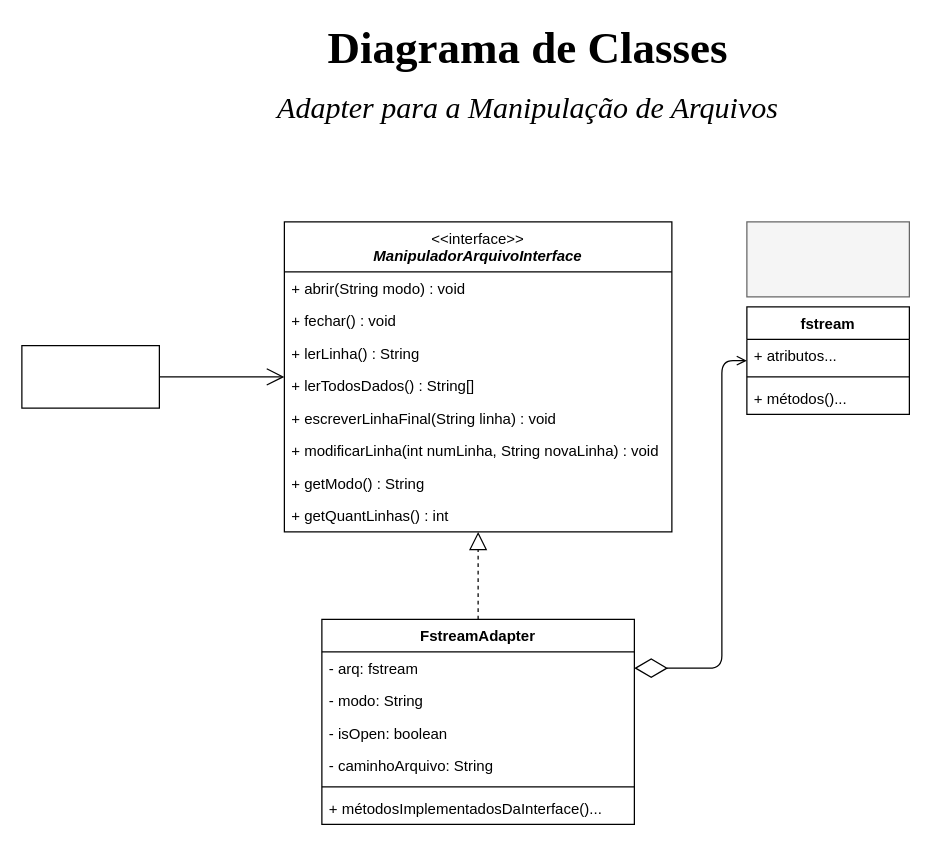
This 931x849 diagram has some shape labels left out. The centre of each missing label's shape, as x and y in pixels:
"Classe nativa da linguagem C++, com seus atributos e métodos próprios" goes at point 827,259.
"Sistema" goes at point 90,376.
